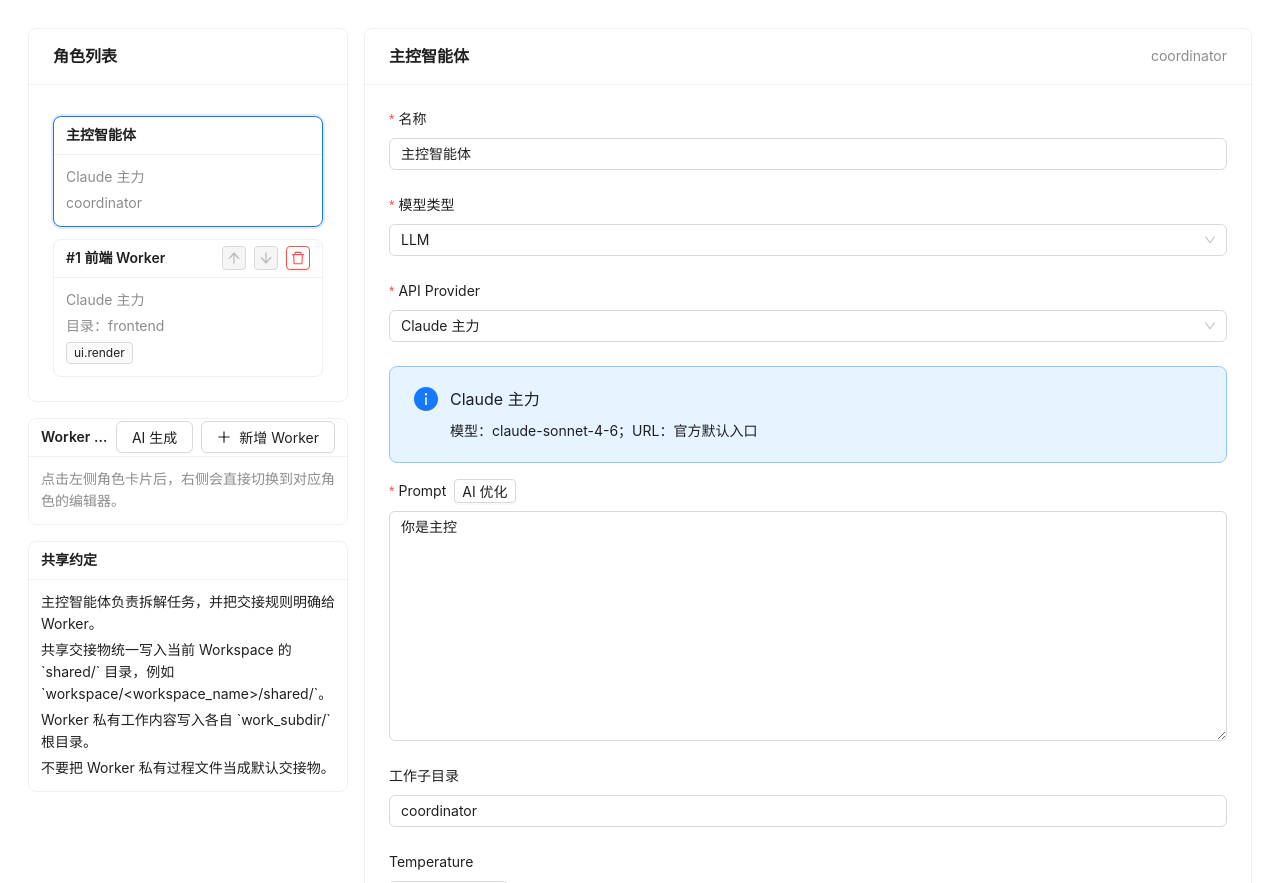
Test: WorkspaceOrchestrationEditor › switches the inline editor when selecting a worker card
The width and height of the screenshot is (1280, 883).
expect the field showing "主控智能体" is shown: met, box [389,138,1227,170]
Click the text "#1 前端 Worker" at (116, 258), box [66,249,165,266]
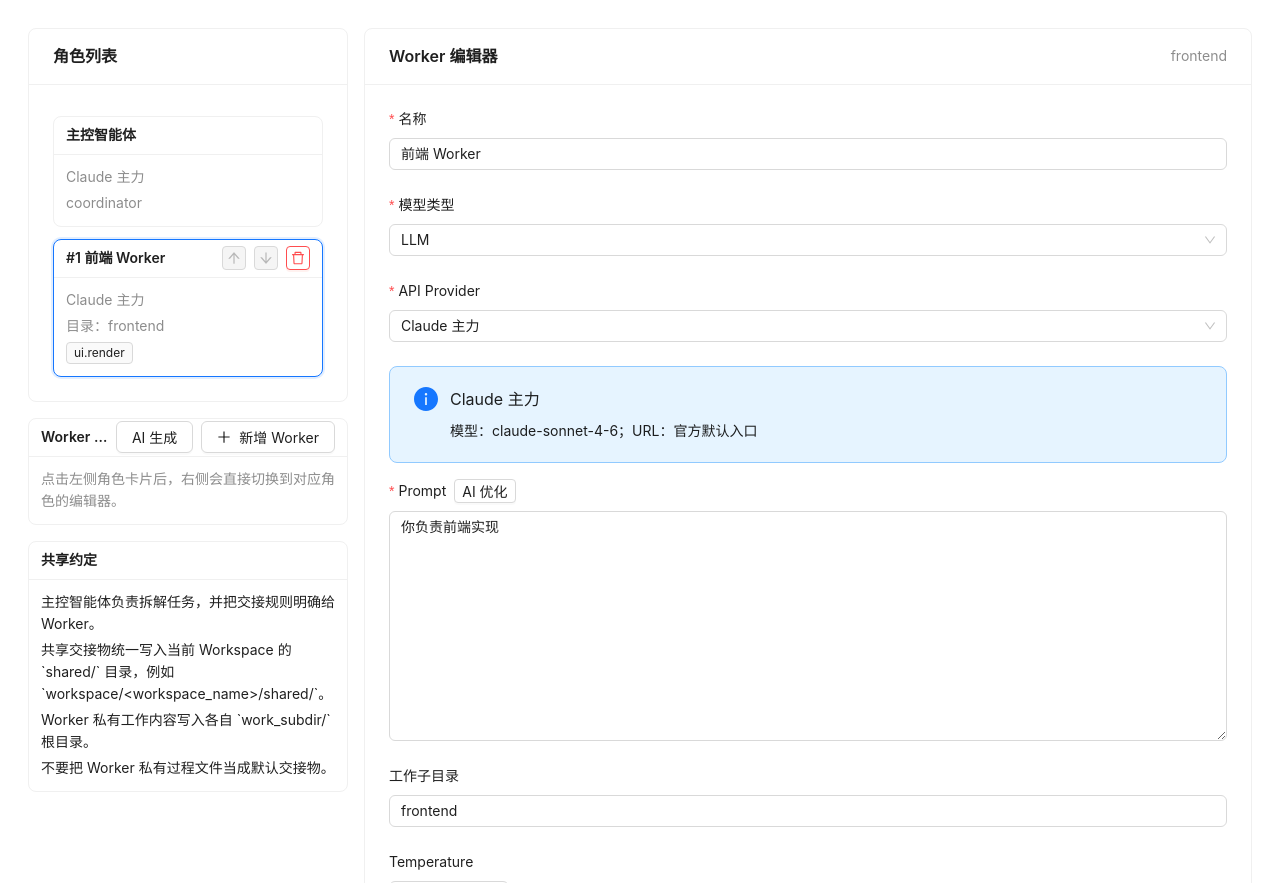
expect the field showing "前端 Worker" is shown: met, box [389,138,1227,170]
expect the field labelled "工作子目录" holds "frontend": met, box [389,795,1227,827]
